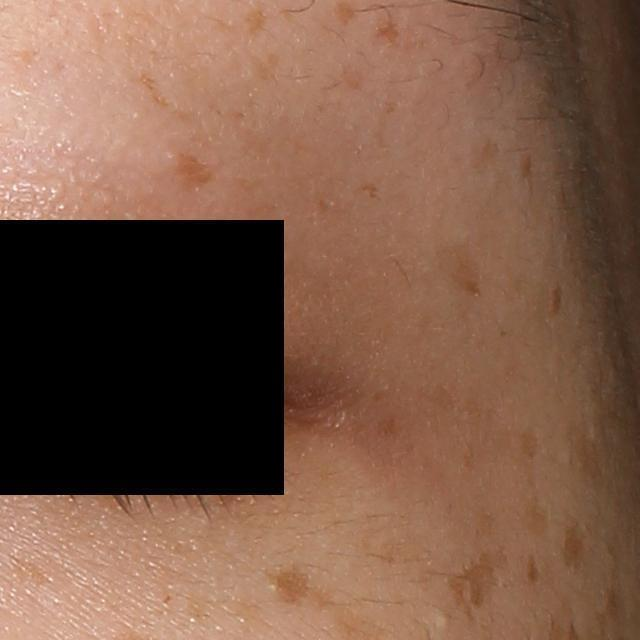comedo: (431, 609, 451, 632)
melasma: (434, 229, 493, 305), (258, 565, 319, 605), (9, 552, 49, 591), (243, 7, 265, 40)
